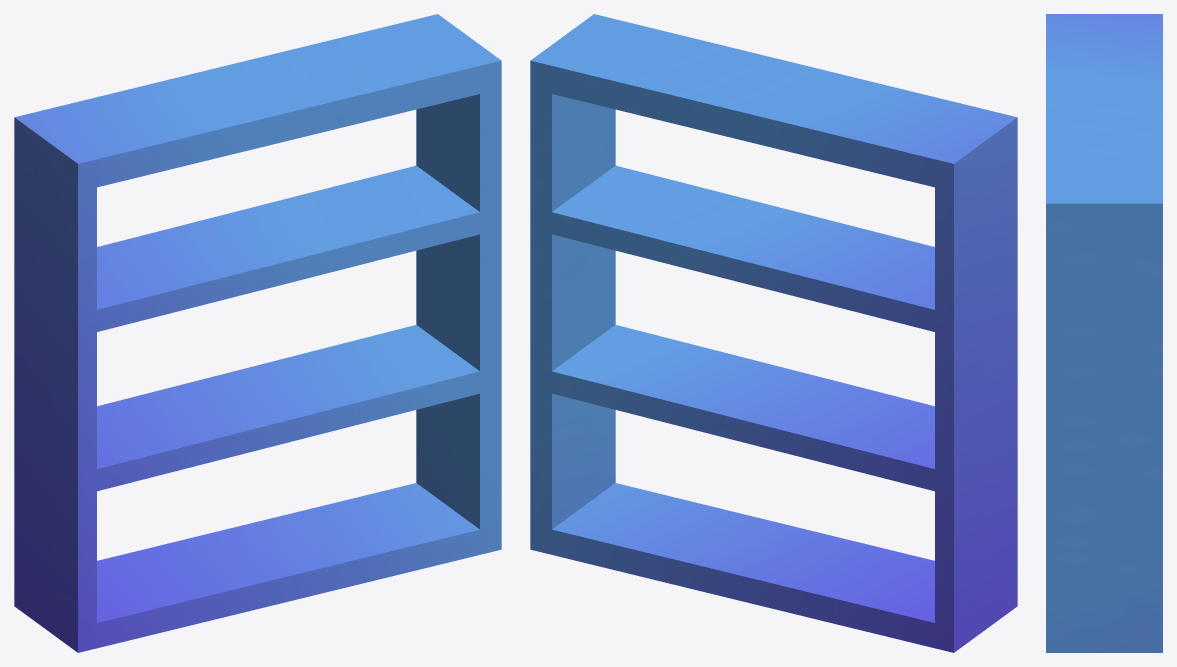
File: POL0110025.fbx
3 views of the same model, side by side, from view 1: azimuth 30°, elevation 25°; view 2: azimuth 150°, elevation 25°; view 3: azimuth 270°, elevation 25° (orthographic). The views are drawn at different scales.
Parts seen in each view (by area): view 1: smPOL0110025; view 2: smPOL0110025; view 3: smPOL0110025.
Boxes of the visible parts, x1,y1,x2,y2 form: smPOL0110025: (14, 14, 501, 652); smPOL0110025: (530, 14, 1017, 652); smPOL0110025: (1046, 14, 1162, 652).
Bounding box in the file's own units: 186 × 205 × 48.48.
Materials: 1 (1 with a texture image).
